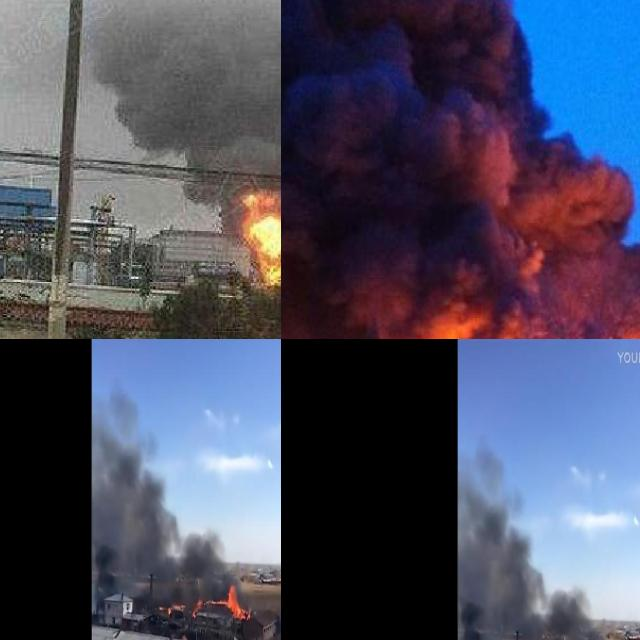fire: (239, 187, 281, 285), (188, 582, 250, 614), (225, 585, 247, 618)
smoke: (281, 0, 640, 339), (82, 0, 281, 191), (92, 384, 177, 590), (458, 441, 543, 640), (178, 528, 224, 590), (544, 585, 589, 640)
